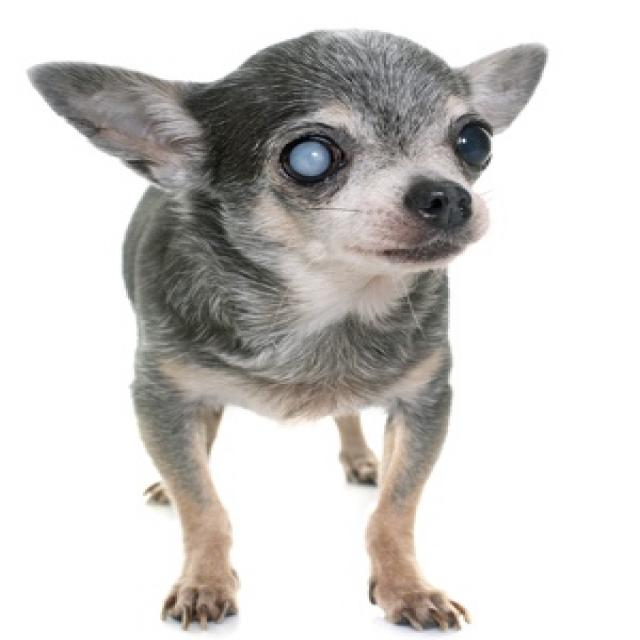eye: (275, 127, 351, 193), (446, 114, 498, 174)
